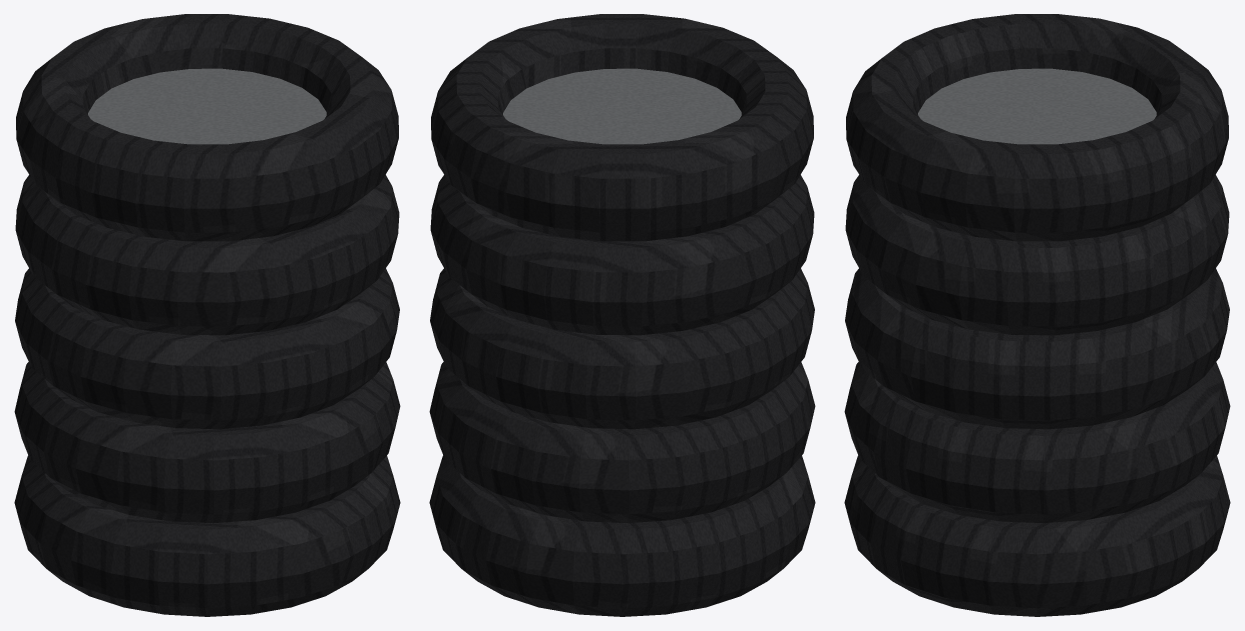
The model's file is tire_stack_5.dae.
3 renders of one model, left to right at view 1: azimuth 30°, elevation 25°; view 2: azimuth 150°, elevation 25°; view 3: azimuth 270°, elevation 25°, orthographic.
Parts seen in each view (by area): view 1: tire_4, tire_3, tire_2, tire_1, tire_0, rim_4; view 2: tire_4, tire_3, tire_2, tire_1, tire_0, rim_4; view 3: tire_4, tire_3, tire_2, tire_1, tire_0, rim_4.
Part boxes in pixels (x1,y1,x2,y2): tire_4: [16, 14, 398, 241]; tire_3: [15, 175, 399, 335]; tire_2: [15, 268, 399, 429]; tire_1: [14, 362, 400, 523]; tire_0: [14, 455, 400, 616]; rim_4: [88, 68, 326, 144]; tire_4: [431, 14, 813, 241]; tire_3: [430, 175, 814, 335]; tire_2: [430, 268, 814, 429]; tire_1: [429, 362, 815, 523]; tire_0: [429, 455, 815, 616]; rim_4: [503, 68, 741, 144]; tire_4: [846, 14, 1228, 241]; tire_3: [845, 175, 1229, 335]; tire_2: [845, 268, 1229, 429]; tire_1: [844, 362, 1230, 523]; tire_0: [844, 455, 1230, 616]; rim_4: [918, 68, 1156, 144].
Bounding box in the file's own units: 0.824 × 0.824 × 1.09.
Materials: 2 (2 with a texture image).
